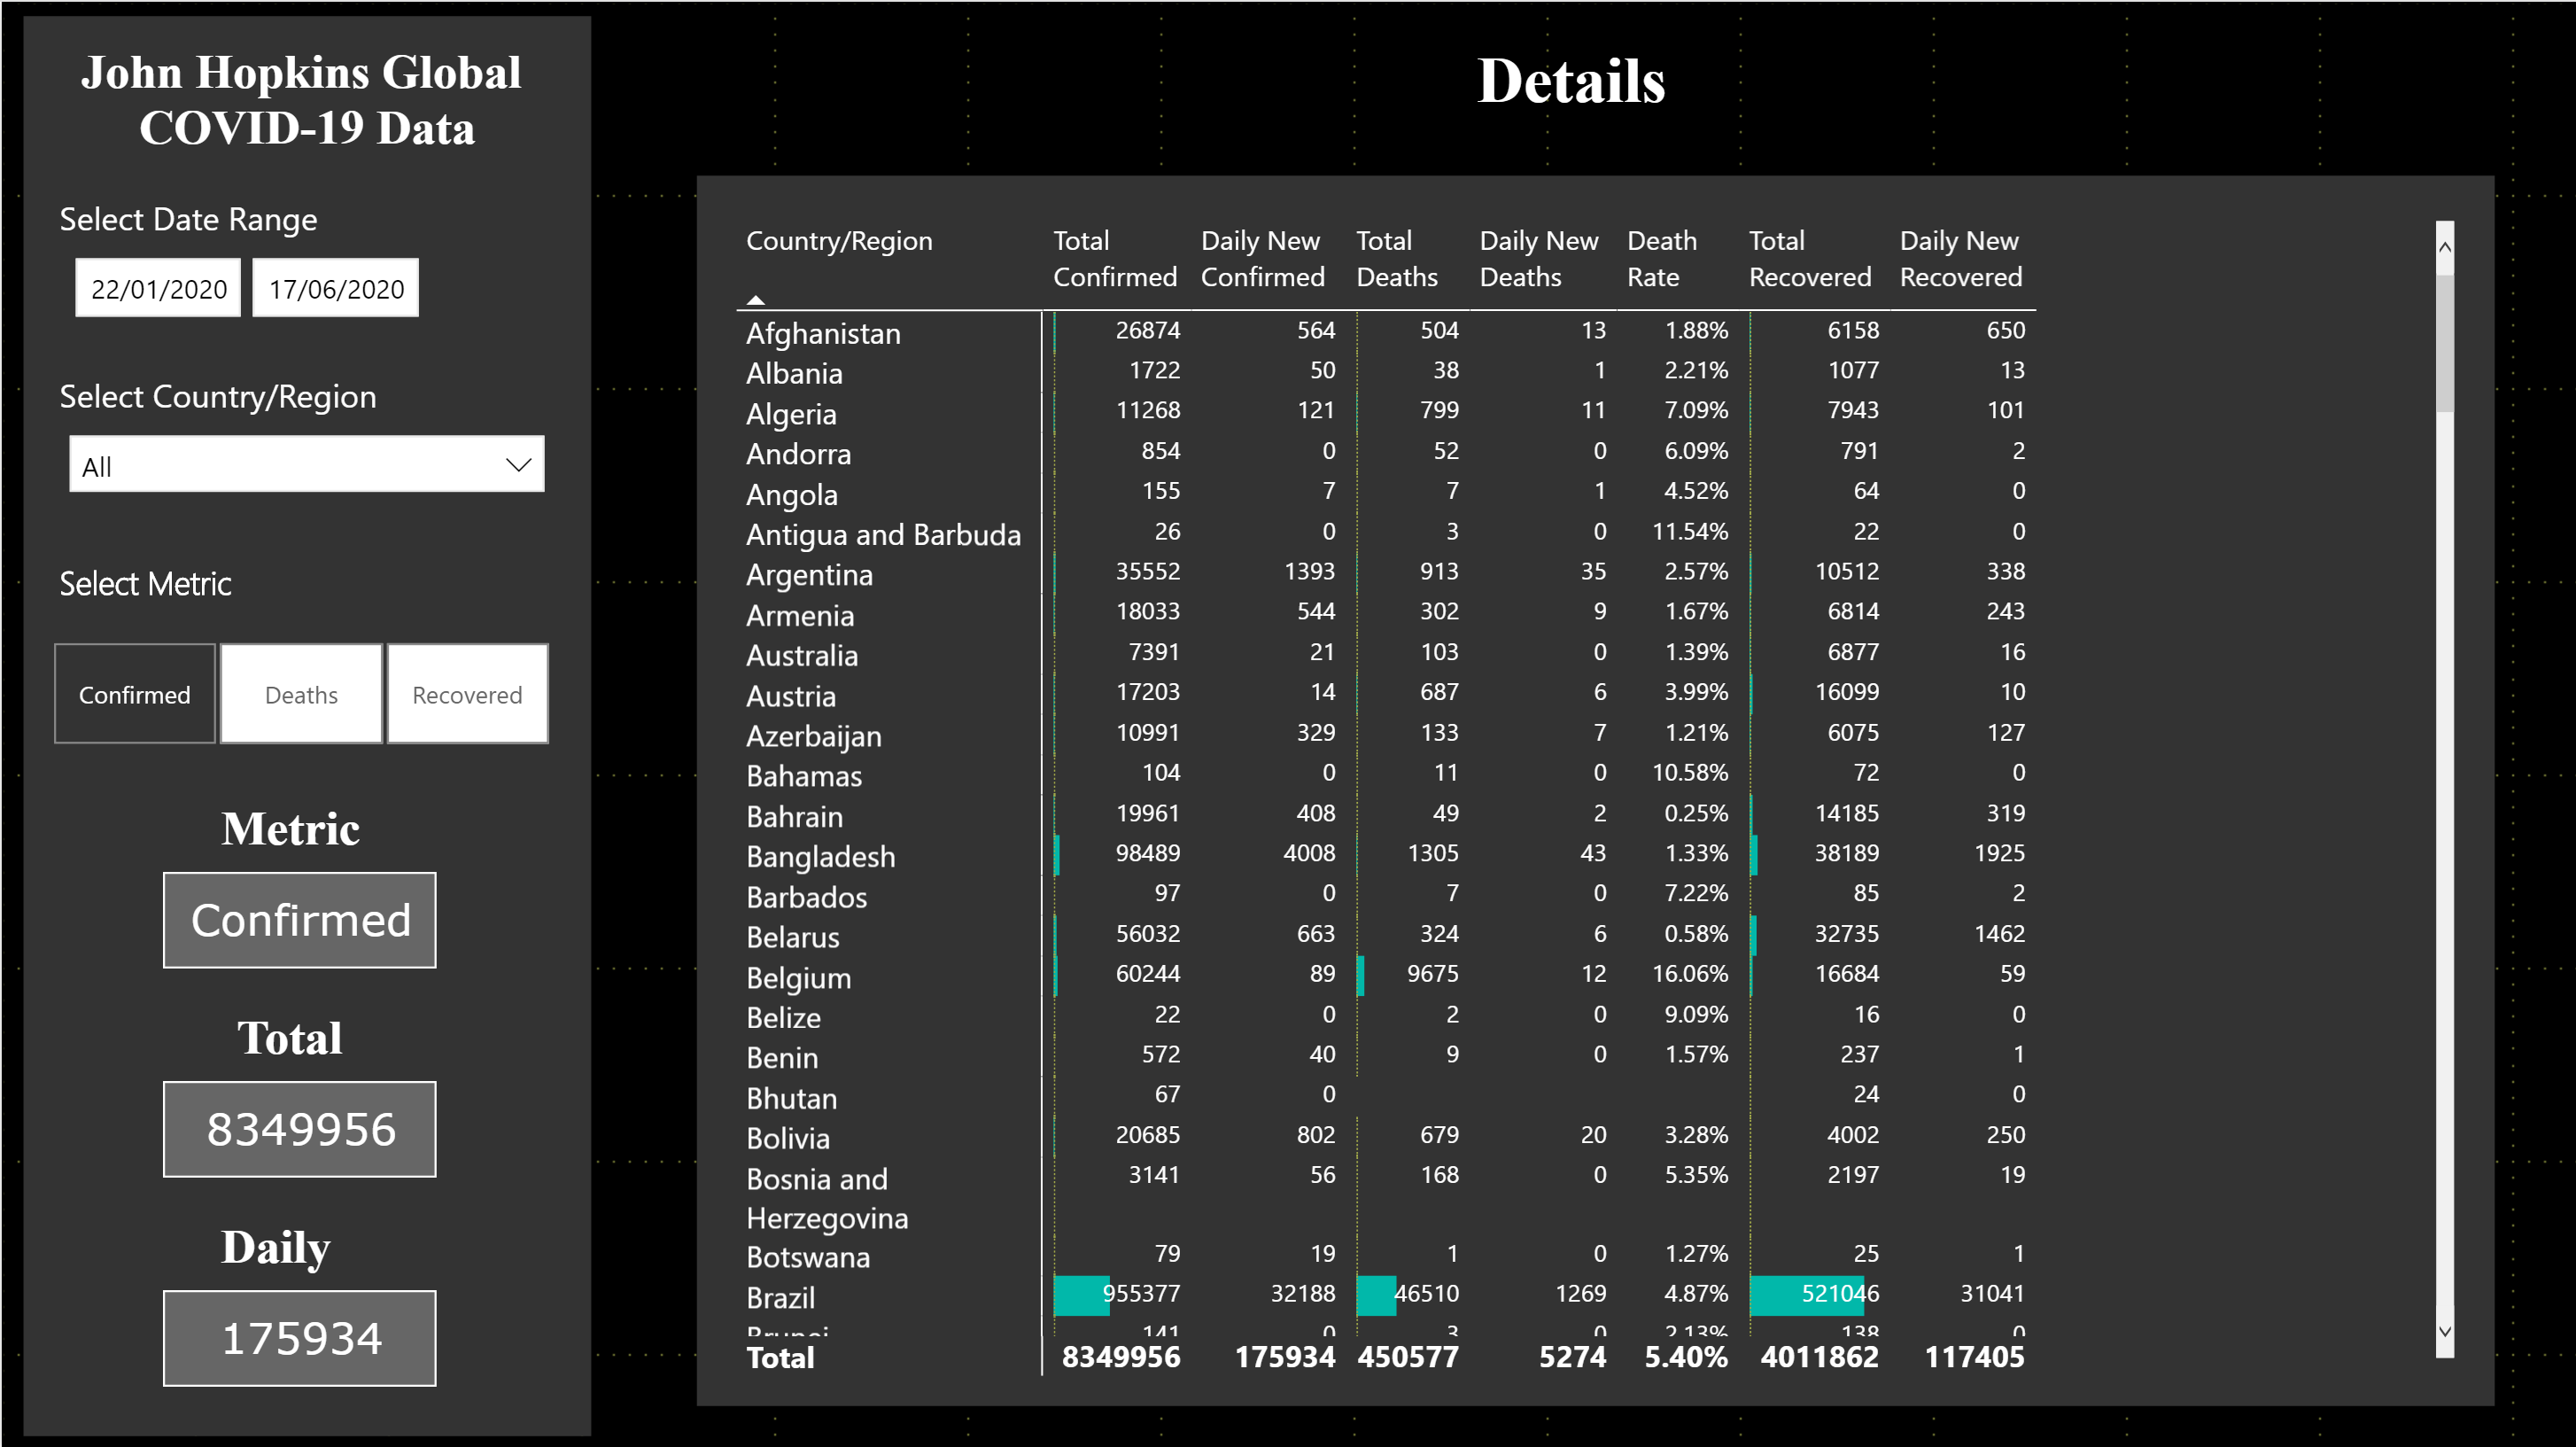

The dashboard page shown, as its layout file describes it:
{"tool":"powerbi","page":{"name":"JH Global Data Report 3","canvas":[1280,720],"ordinal":2},"visuals":[{"type":"basicShape","box":[336,80,912,624],"z":0},{"type":"basicShape","box":[8,0,288,720],"z":1000},{"type":"pivotTable","fields":{"Values":["All Measures.Total Confirmed","All Measures.Daily New Confirmed","All Measures.Total Deaths","All Measures.Daily New Deaths","All Measures.Death Rate","All Measures.Total Recovered","All Measures.Daily New Recovered"],"Rows":["COVID-19 CDR-Combined.Country/Region","COVID-19 CDR-Combined.Province/State"]},"box":[360,104,864,584],"z":2000},{"type":"slicer","title":"Select Date Range","fields":{"Values":["Calendar.Date"]},"box":[24,96,232,64],"z":3000},{"type":"slicer","title":"Select Country/Region","fields":{"Values":["COVID-19 CDR-Combined.Country/Region"]},"box":[24,184,256,64],"z":4000},{"type":"slicer","fields":{"Values":["Metrics.Measure"]},"box":[0,312,296,64],"z":5000},{"type":"textbox","box":[24,272,160,32],"z":6000},{"type":"card","fields":{"Values":["All Measures.Metric Selected"]},"box":[80,432,136,48],"z":7000},{"type":"card","fields":{"Values":["All Measures.Total Measure Logic"]},"box":[80,536,136,48],"z":8000},{"type":"card","fields":{"Values":["All Measures.Daily Measure Logic"]},"box":[80,640,136,48],"z":9000},{"type":"textbox","box":[104,392,96,48],"z":10000},{"type":"textbox","box":[112,496,80,48],"z":11000},{"type":"textbox","box":[104,600,80,48],"z":12000},{"type":"textbox","box":[8,16,288,80],"z":13000},{"type":"textbox","box":[728,16,144,64],"z":14000}]}

Visuals, with their boxes in screenshot pixels (x1, y1, x2, y2), scaled from the page's 1280x720 canvas onto the 2576x1447 screenshot:
basicShape: [left=676, top=160, right=2511, bottom=1415]
basicShape: [left=16, top=0, right=595, bottom=1446]
pivotTable - All Measures.Total Confirmed x All Measures.Daily New Confirmed: [left=725, top=209, right=2463, bottom=1382]
"Select Date Range" slicer: [left=49, top=193, right=516, bottom=322]
"Select Country/Region" slicer: [left=49, top=370, right=563, bottom=498]
slicer - Metrics.Measure: [left=0, top=627, right=595, bottom=756]
textbox: [left=49, top=547, right=370, bottom=611]
card - All Measures.Metric Selected: [left=161, top=868, right=435, bottom=965]
card - All Measures.Total Measure Logic: [left=161, top=1077, right=435, bottom=1174]
card - All Measures.Daily Measure Logic: [left=161, top=1287, right=435, bottom=1382]
textbox: [left=209, top=788, right=402, bottom=884]
textbox: [left=225, top=997, right=386, bottom=1093]
textbox: [left=209, top=1206, right=370, bottom=1303]
textbox: [left=16, top=32, right=595, bottom=193]
textbox: [left=1465, top=32, right=1755, bottom=160]
